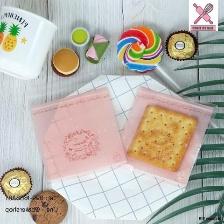snack: (108, 80, 223, 193), (23, 78, 133, 189), (0, 0, 62, 85)
